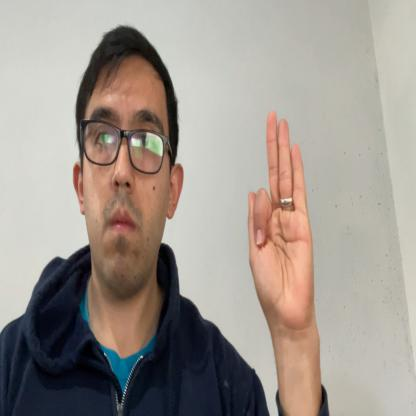F: (247, 111, 315, 325)
